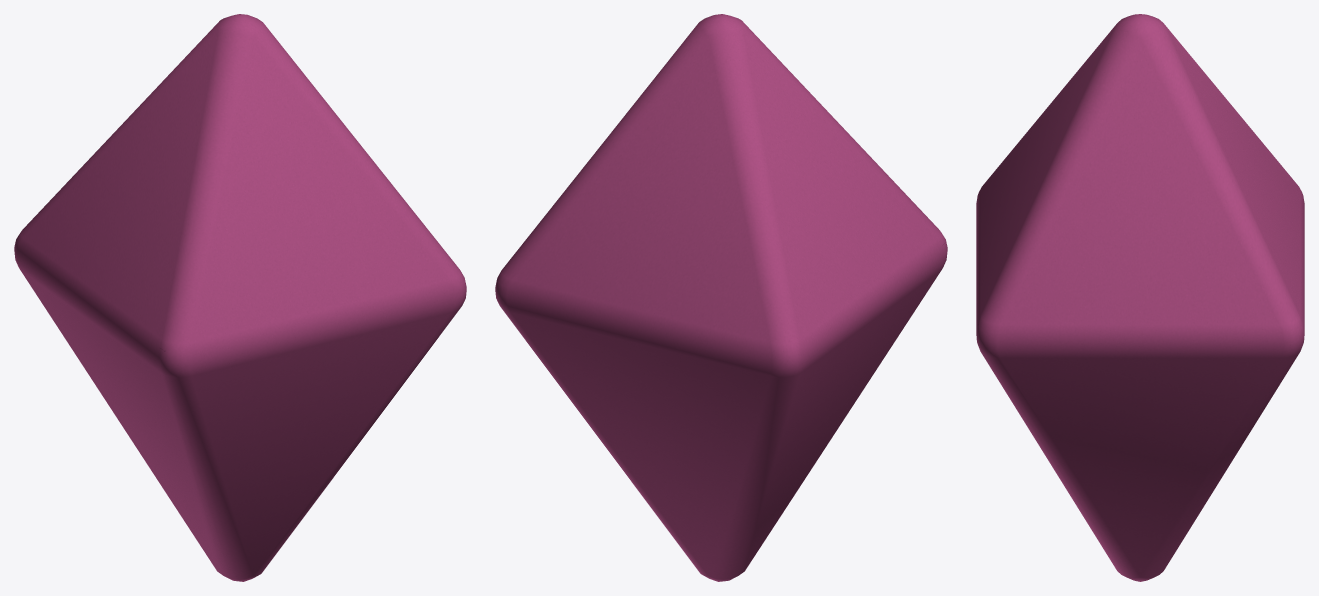
The model's file is dia.gltf.
The picture shows the model from 3 angles, left to right: view 1: azimuth 30°, elevation 25°; view 2: azimuth 150°, elevation 25°; view 3: azimuth 270°, elevation 25°; orthographic projection.
Visible parts, largest first — view 1: Cube; view 2: Cube; view 3: Cube.
Boxes of the visible parts, bbox=[...] form: Cube: bbox=[14, 14, 466, 581]; Cube: bbox=[495, 14, 947, 581]; Cube: bbox=[976, 14, 1304, 581].
Bounding box in the file's own units: 1.67 × 2.96 × 1.56.
1 material, 1 textured.
